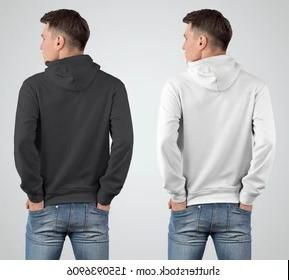sweater: (157, 52, 277, 207), (13, 53, 134, 204)
trousers: (24, 200, 111, 260), (167, 201, 252, 260)
